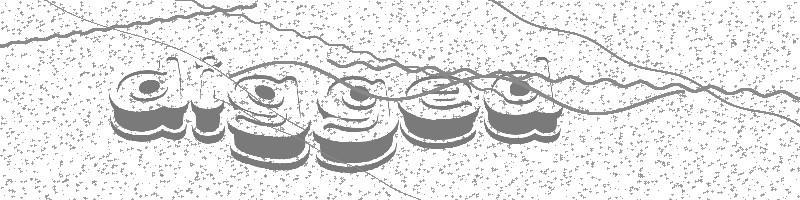d: (104, 54, 191, 148), (480, 53, 564, 150)
e: (396, 63, 483, 151)
g: (311, 73, 396, 172), (228, 72, 312, 170)
i: (190, 51, 227, 146)
